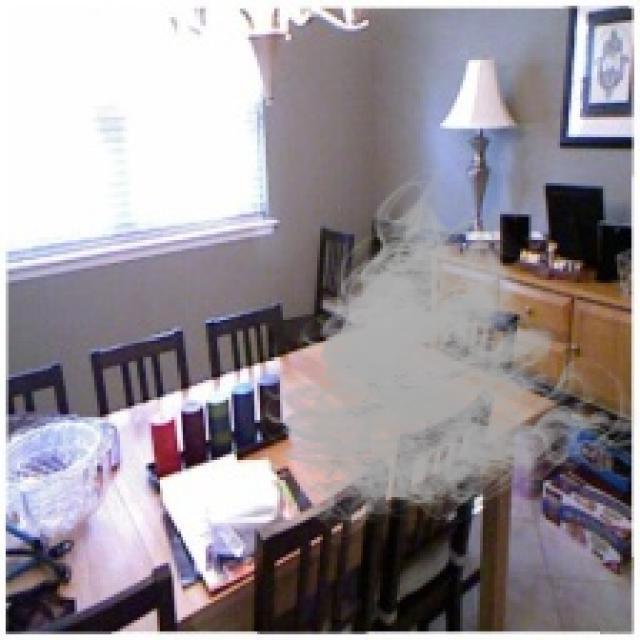Smoke: (248, 168, 638, 548)
